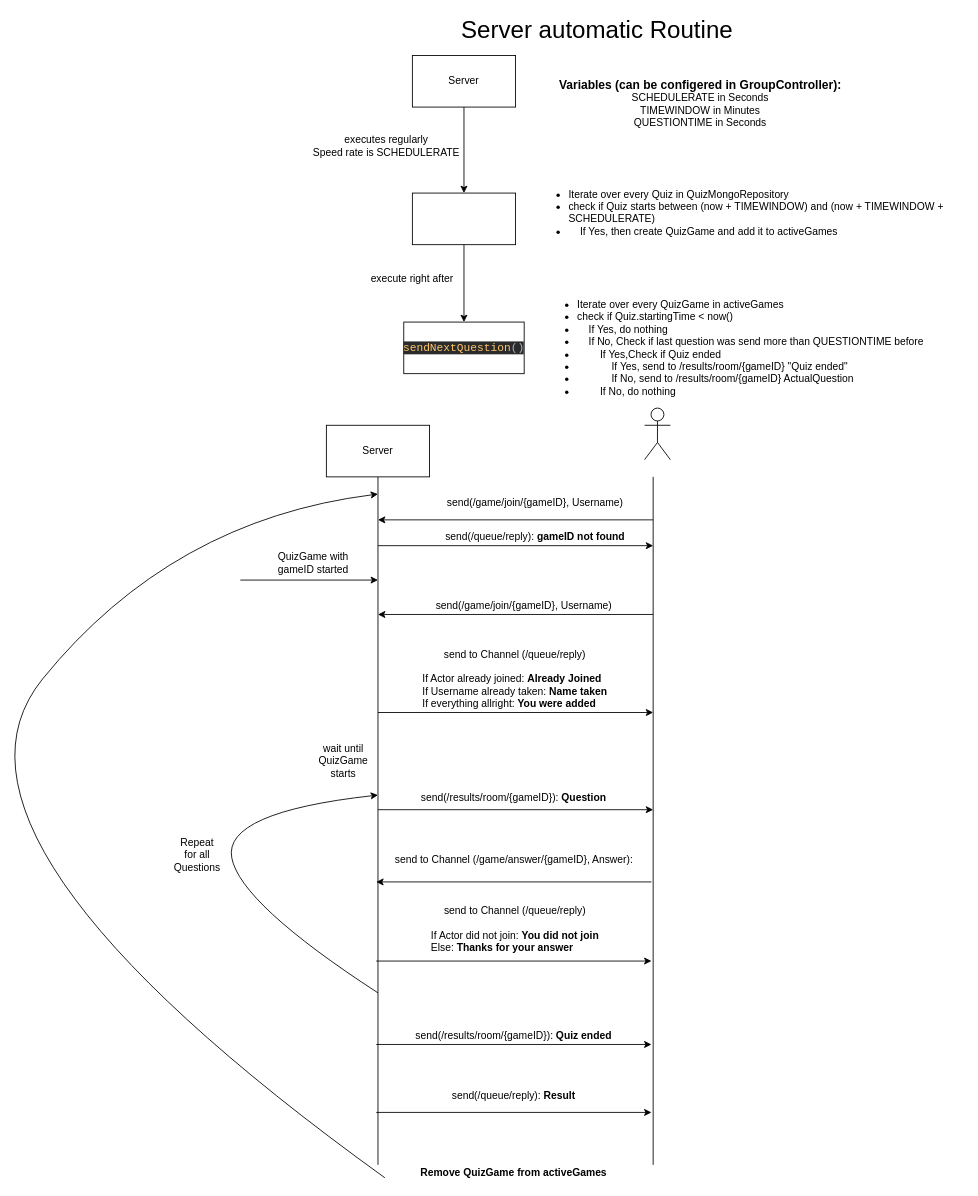
Image size: 978x1196. Some labels were removed from this diagram. The centre of each missing label's shape, as x and y in pixels:
"Actor" belongs at (x=657, y=433).
"createGame ()" belongs at (x=464, y=218).
